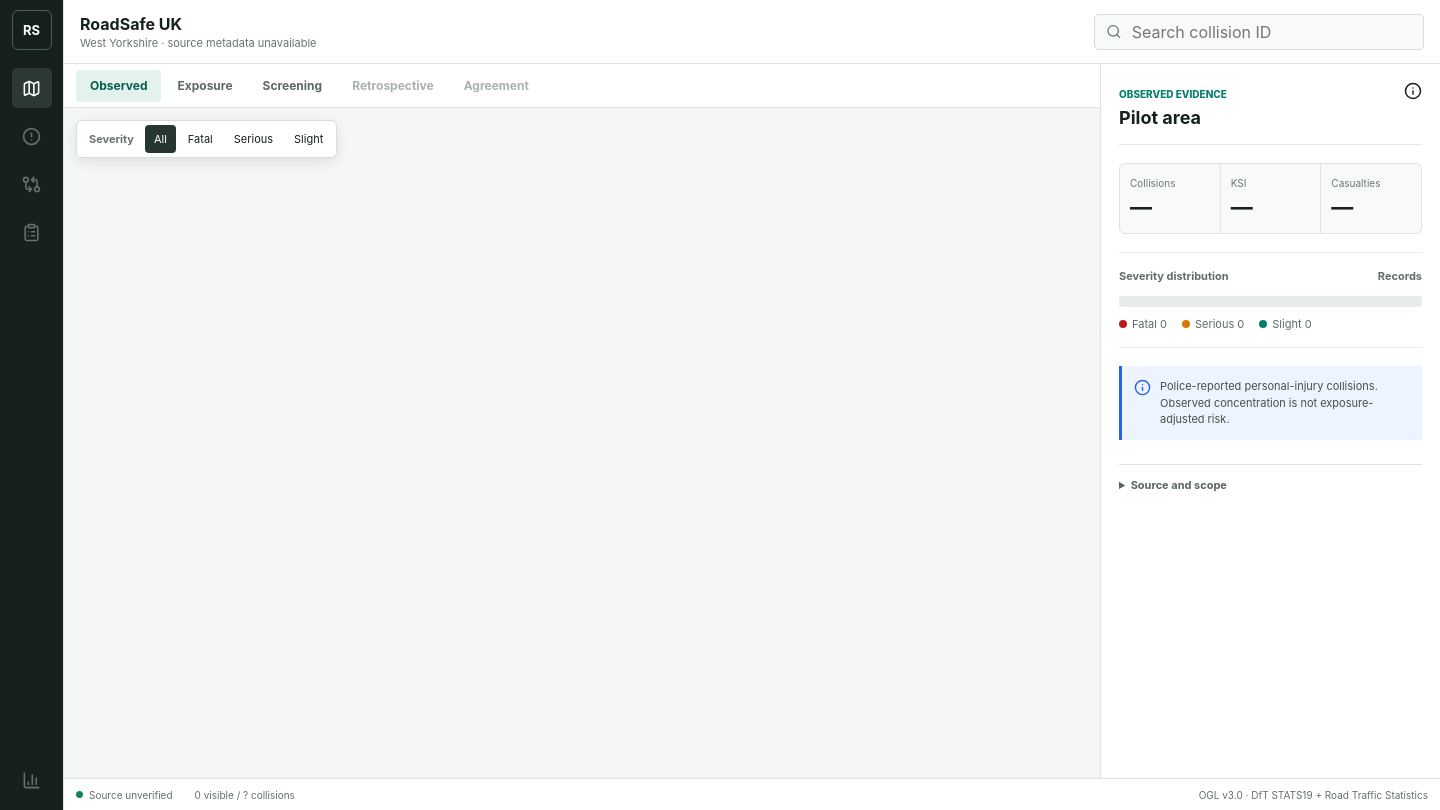
Test case: geometry A cannot export or show points using unbound metadata B (different-snapshot)
Click the button "Exposure": (205, 86) [164,70,247,102]
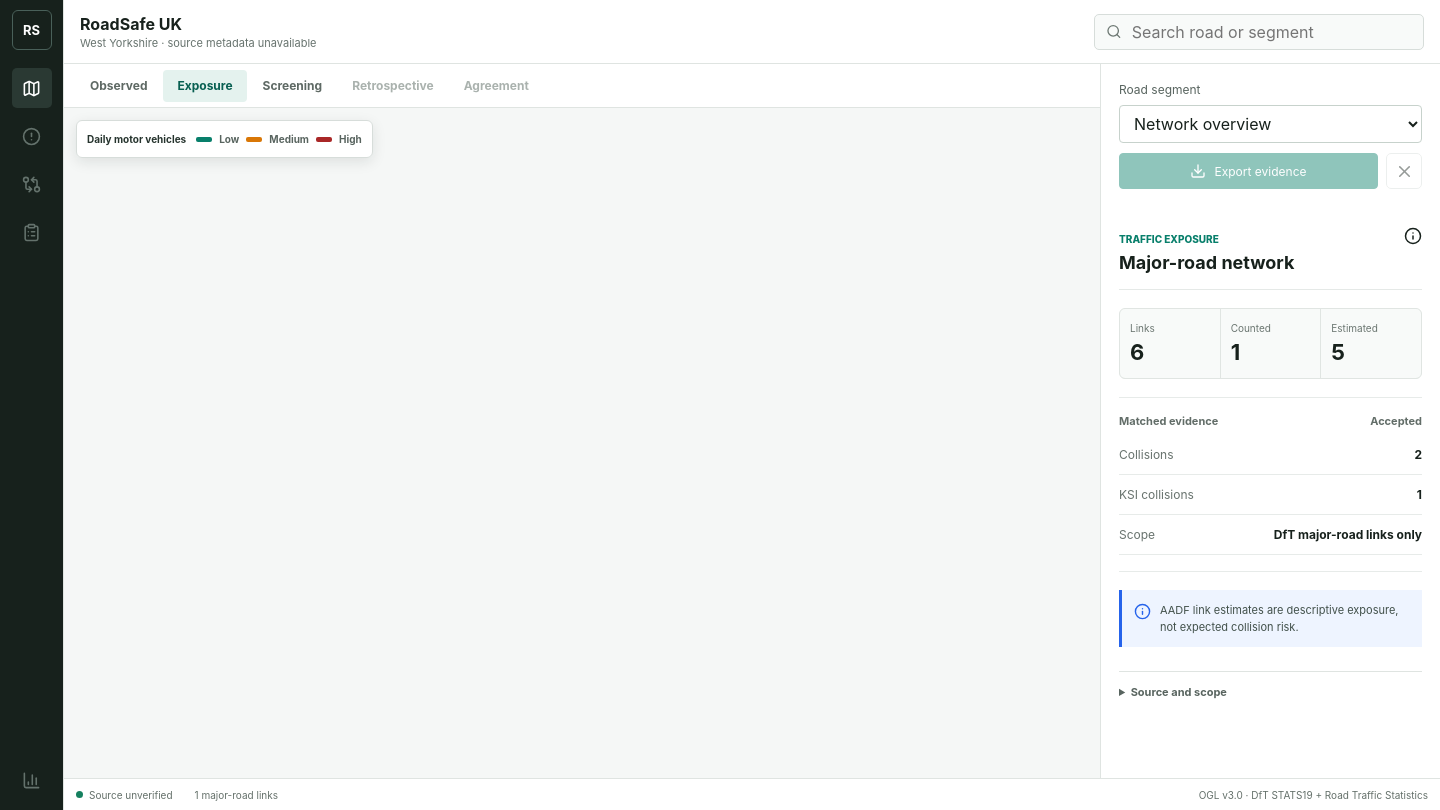
Select "A1 · 1" in the dropdown labelled "Road segment": (1270, 124) [1119,105,1422,143]
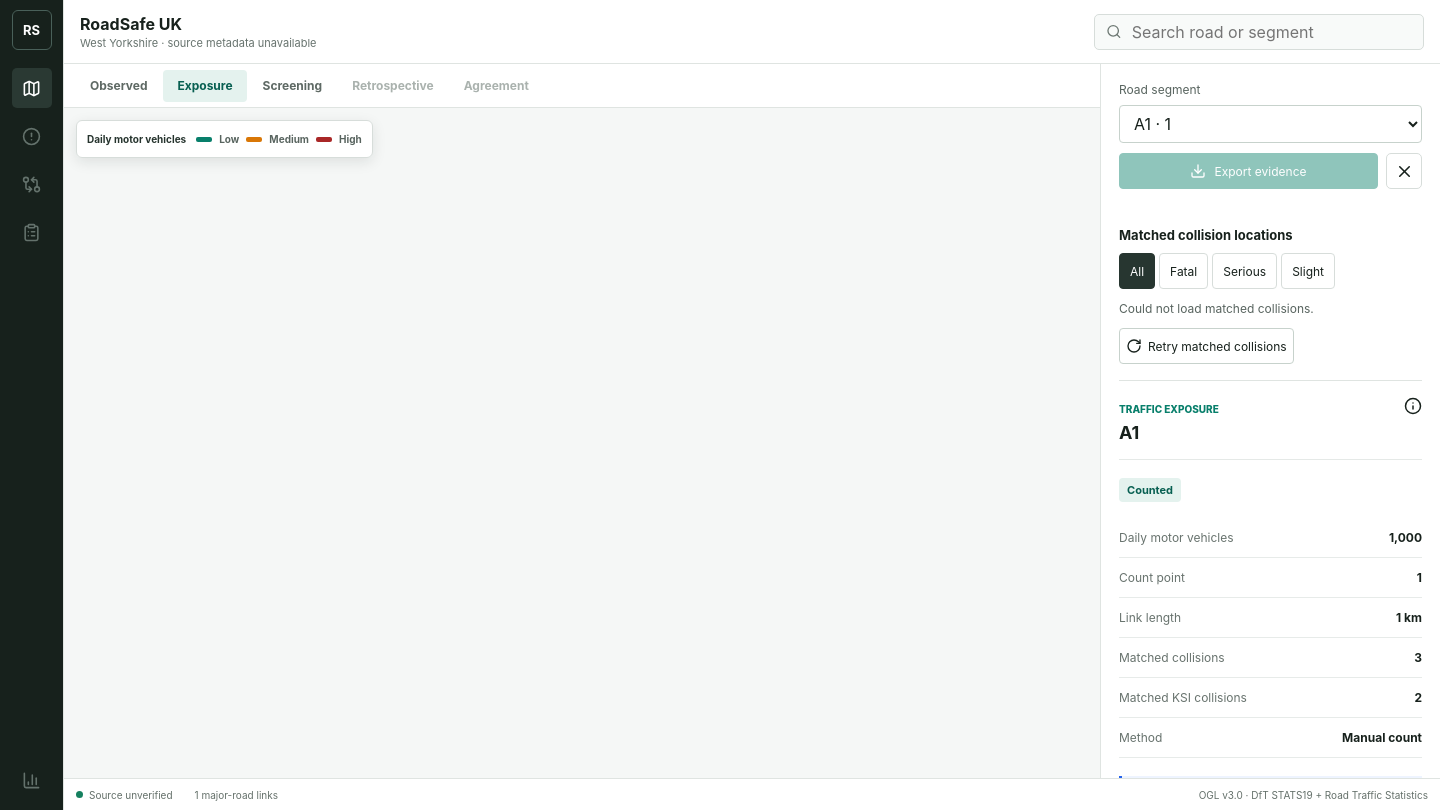
Result: the button "Export evidence" is disabled at [1119,153,1378,189]
Result: the text "Could not load matched collisions." is shown at [1119,301,1314,316]
